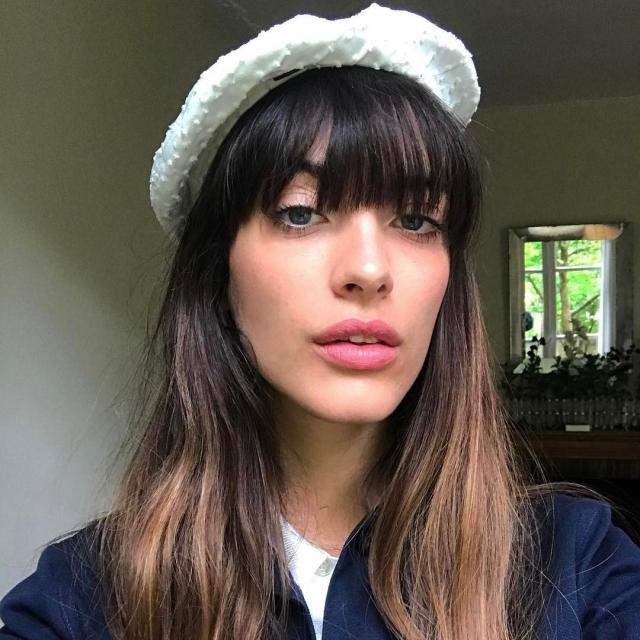mobile_phonerotation: (1, 4, 638, 638)
